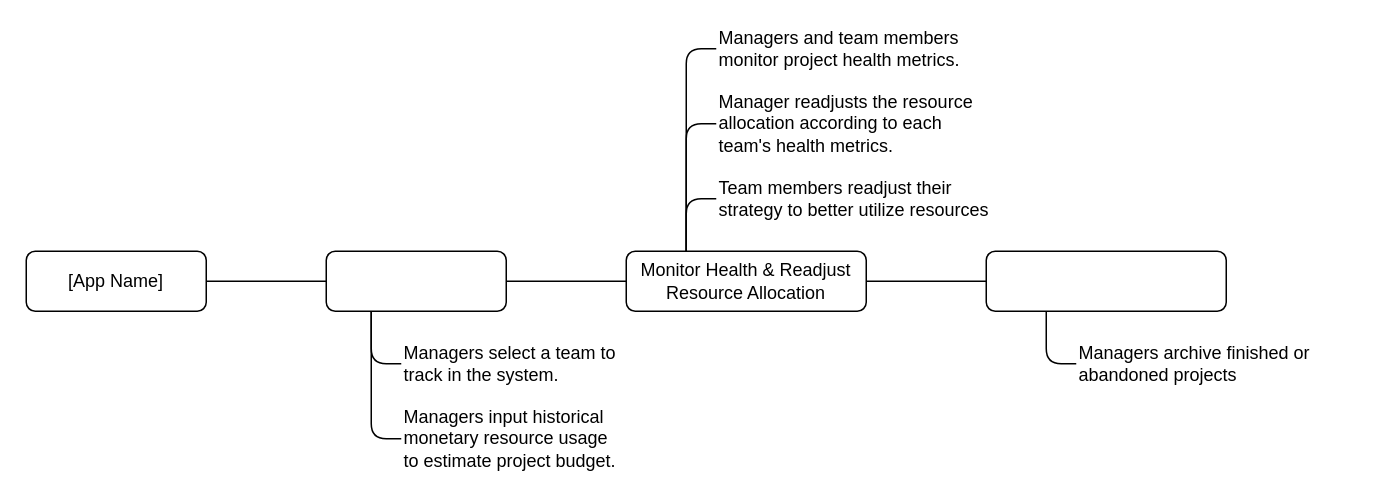
Some shapes in this 1373 by 497 pixel diagram are drawn without their labels. Each missing label, with the centre of its shape:
"Archive Team Project" goes at (x=1105, y=280).
"Track Team" goes at (x=415, y=280).
